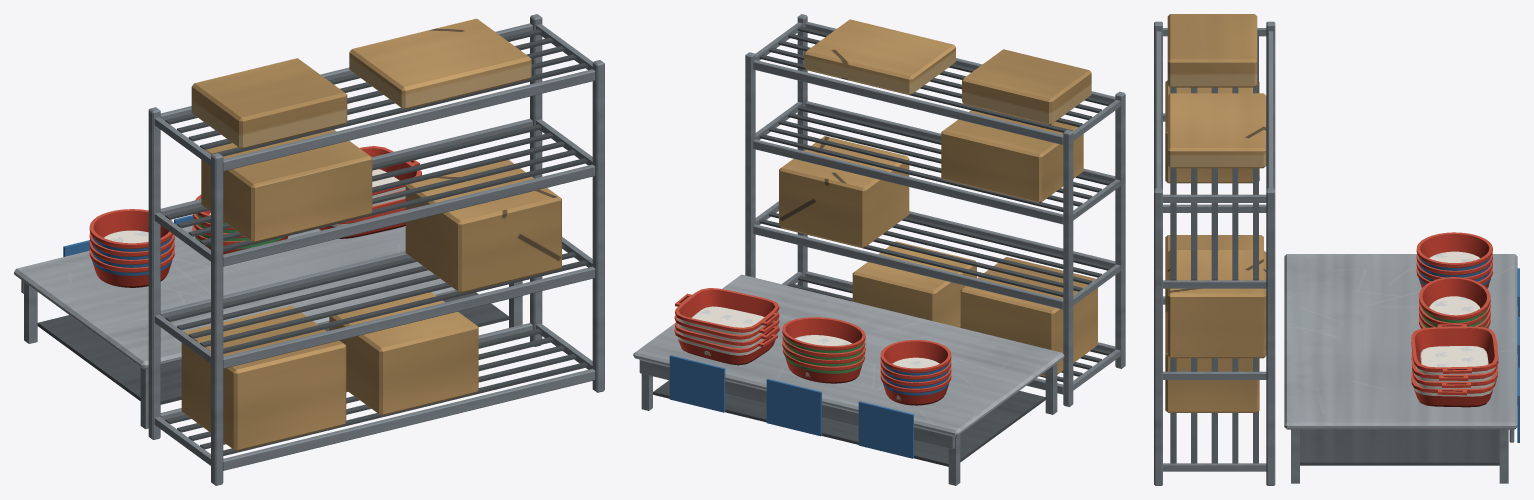
File: box_shelf.glb
3 views of the same model, side by side, from view 1: azimuth 30°, elevation 25°; view 2: azimuth 150°, elevation 25°; view 3: azimuth 270°, elevation 25° (orthographic). The views are drawn at different scales.
Visible parts, largest first — view 1: rack, cartons, stack_small, stack_large, stack_medium; view 2: rack, cartons, stack_large, stack_medium, stack_small, SizePanel_large, SizePanel_small, SizePanel_medium; view 3: rack, cartons, stack_large, stack_small, stack_medium.
Boxes of the visible parts, left/top/right/bottom form: rack: left=14, top=14, right=604, bottom=485; cartons: left=181, top=18, right=561, bottom=451; stack_small: left=89, top=209, right=174, bottom=287; stack_large: left=319, top=146, right=421, bottom=238; stack_medium: left=192, top=194, right=288, bottom=254; rack: left=633, top=14, right=1125, bottom=485; cartons: left=779, top=19, right=1097, bottom=376; stack_large: left=674, top=288, right=779, bottom=365; stack_medium: left=782, top=317, right=865, bottom=383; stack_small: left=880, top=340, right=951, bottom=405; SizePanel_large: left=669, top=355, right=725, bottom=412; SizePanel_small: left=858, top=401, right=913, bottom=458; SizePanel_medium: left=766, top=379, right=821, bottom=436; rack: left=1154, top=21, right=1517, bottom=485; cartons: left=1165, top=14, right=1266, bottom=412; stack_large: left=1411, top=324, right=1498, bottom=407; stack_small: left=1416, top=232, right=1492, bottom=288; stack_medium: left=1419, top=277, right=1490, bottom=328.
Bounding box in the file's own units: 1.8 × 1.56 × 1.63.
8 materials, 7 textured.
